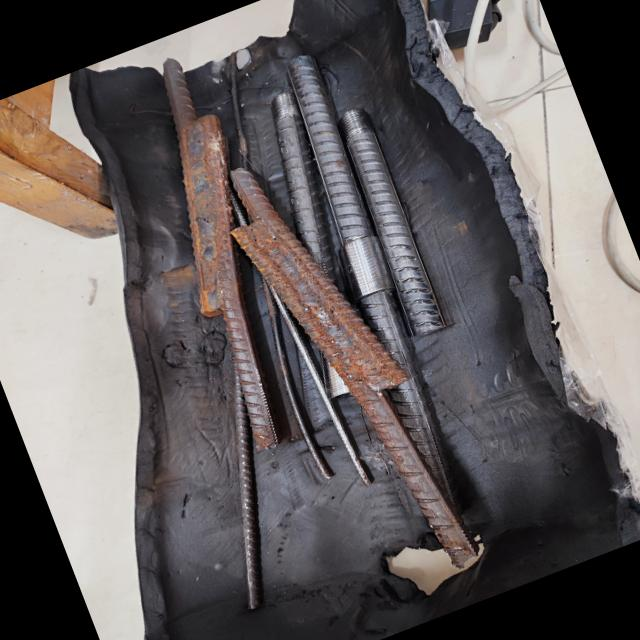Sleeve joint: (333, 222, 397, 305)
Welded link: (224, 186, 412, 429), (136, 111, 290, 321)
ribbed bar: (199, 131, 492, 604), (266, 44, 512, 576), (105, 36, 339, 458), (324, 97, 454, 346), (179, 428, 311, 618)
